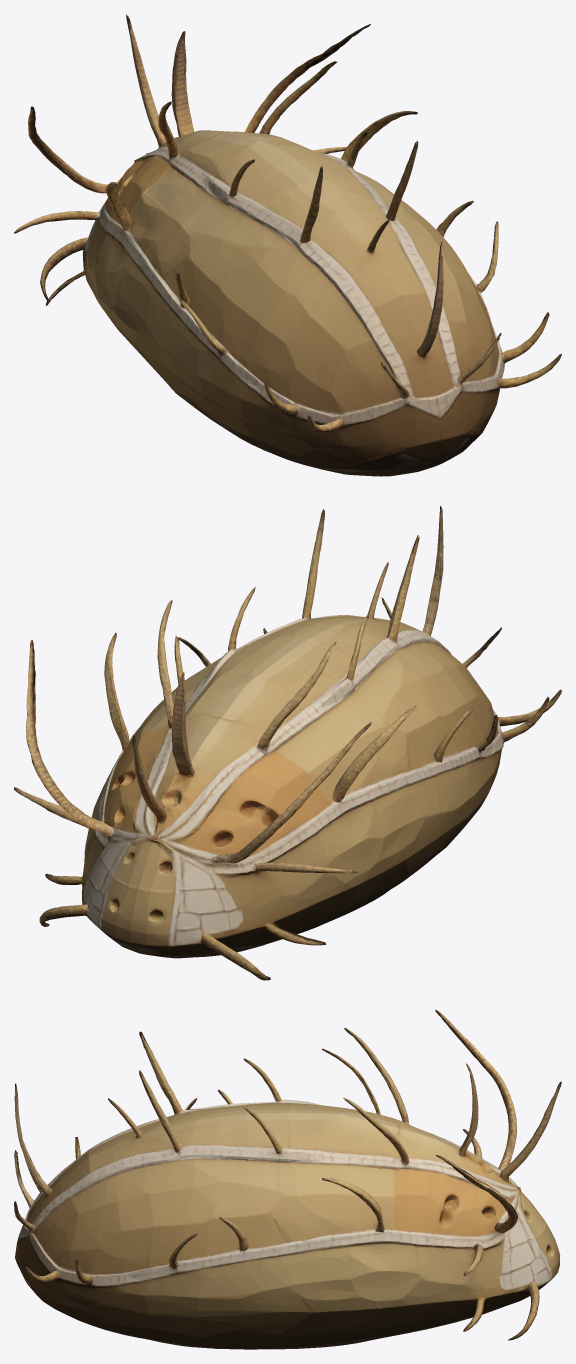
The picture shows the model from 3 angles, top to bottom: view 1: azimuth 30°, elevation 25°; view 2: azimuth 150°, elevation 25°; view 3: azimuth 270°, elevation 25°; orthographic projection. The views are drawn at different scales.
Parts seen in each view (by area): view 1: world; view 2: world; view 3: world.
Boxes of the visible parts, box(x1,y1,x2,y2) form: world: box(14, 14, 561, 476); world: box(14, 506, 561, 980); world: box(14, 1009, 561, 1349).
Bounding box in the file's own units: 0.0125 × 0.0113 × 0.0197.
Materials: 1 (1 with a texture image).
